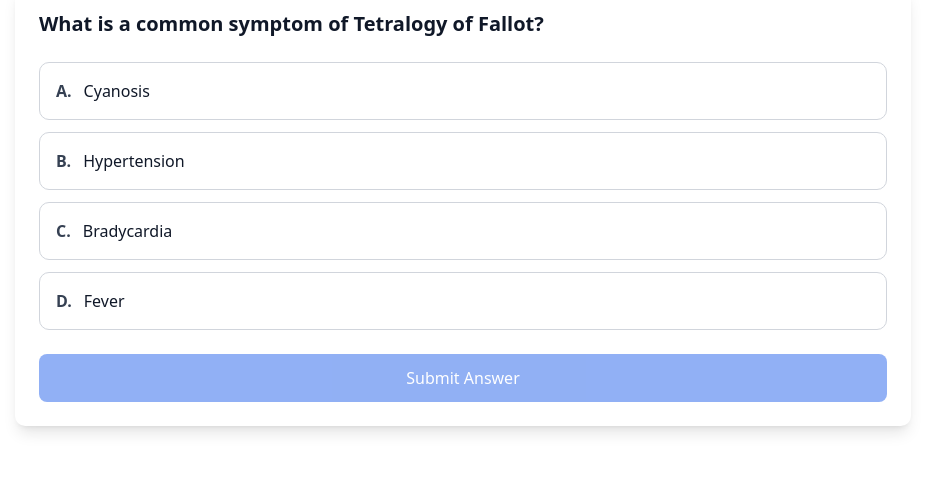
it: QuestionCard Component › should show explanation after submission when showExplanation is true
What coordinates should you click on to do the following:
click the text "Cyanosis"
I would click on:
 (117, 91)
Its box is x1=84 y1=80 x2=150 y2=102.
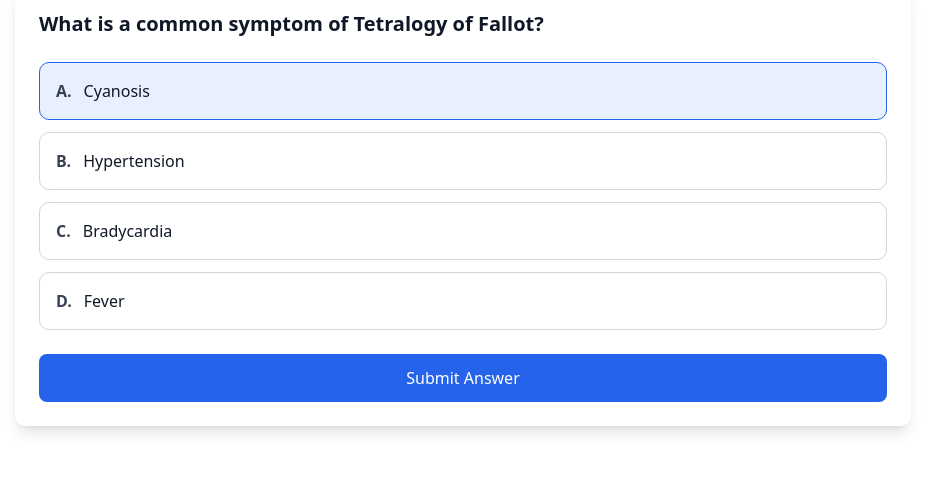
What coordinates should you click on to do the following:
click the button "Submit Answer"
I would click on:
 (463, 378)
Its box is x1=39 y1=354 x2=887 y2=402.
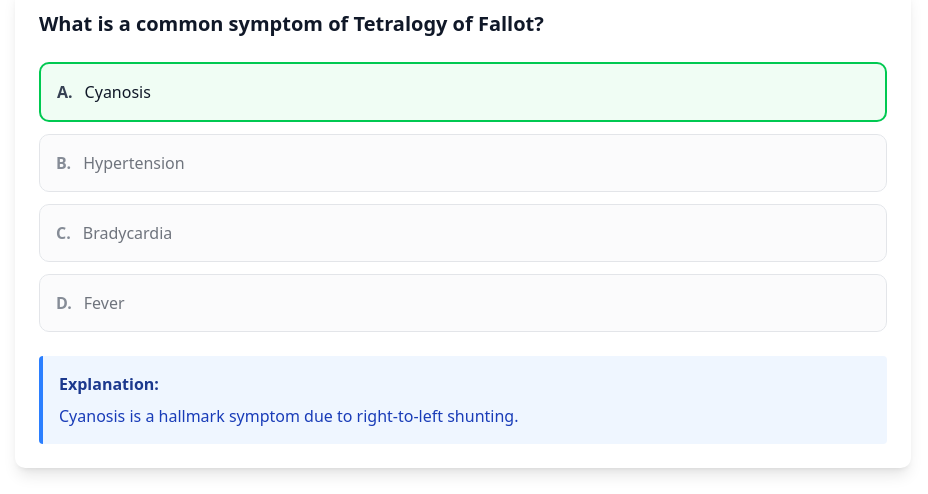
Now the text "Cyanosis is a hallmark symptom due to right-to-left shunting." is shown, box x1=59 y1=405 x2=518 y2=427
